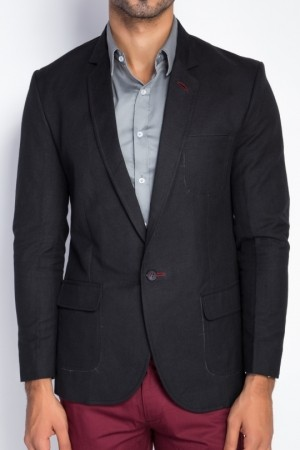F_M_suit jacket: (11, 26, 292, 415)
